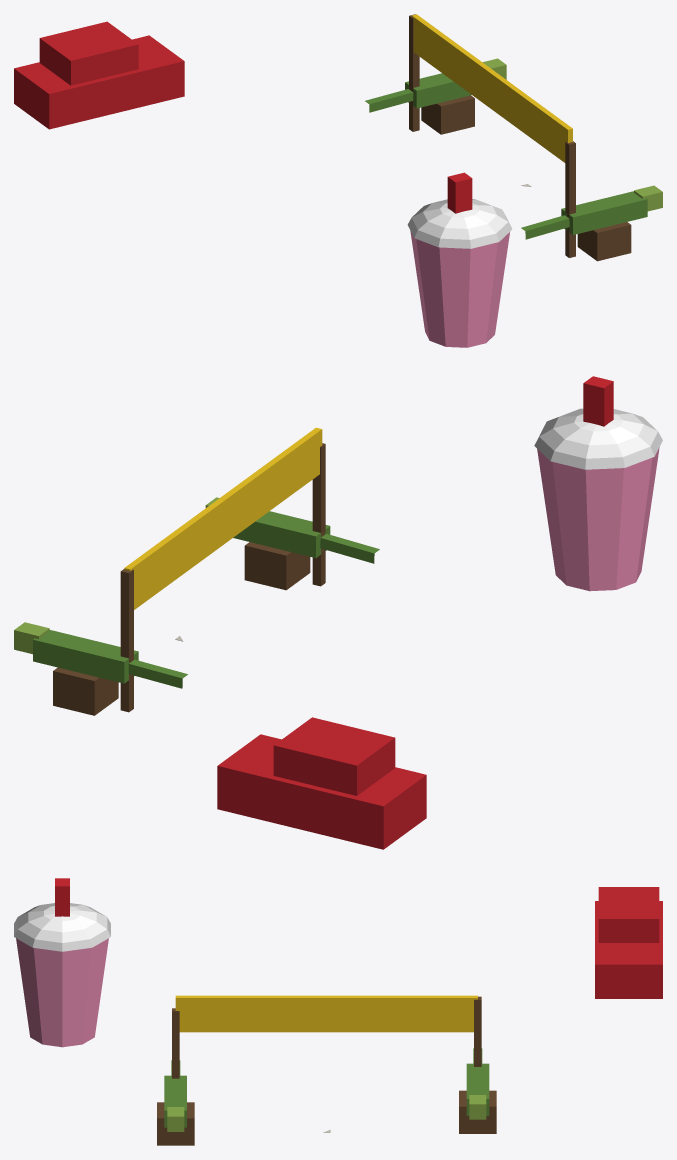
The model's file is casibari_entry.glb.
3 views of the same model, one above another, from view 1: azimuth 30°, elevation 25°; view 2: azimuth 150°, elevation 25°; view 3: azimuth 270°, elevation 25° (orthographic). The views are drawn at different scales.
Visible parts, largest first — view 1: casibari_entry_lod0; view 2: casibari_entry_lod0; view 3: casibari_entry_lod0.
Part boxes in pixels (left/top/right/bottom): casibari_entry_lod0: left=14, top=14, right=662, bottom=347; casibari_entry_lod0: left=14, top=376, right=662, bottom=849; casibari_entry_lod0: left=14, top=878, right=662, bottom=1145.
Size of what is drawn, in the model's own units: 11.6 by 4.66 by 17.18.
